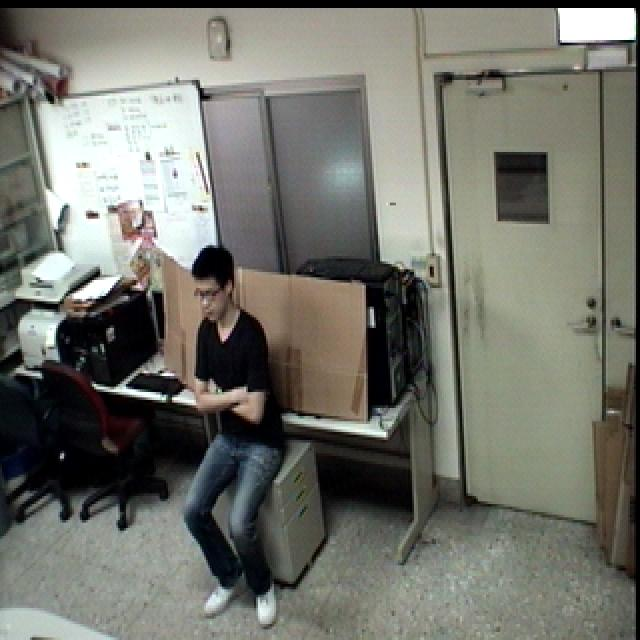sit: (173, 238, 290, 637)
